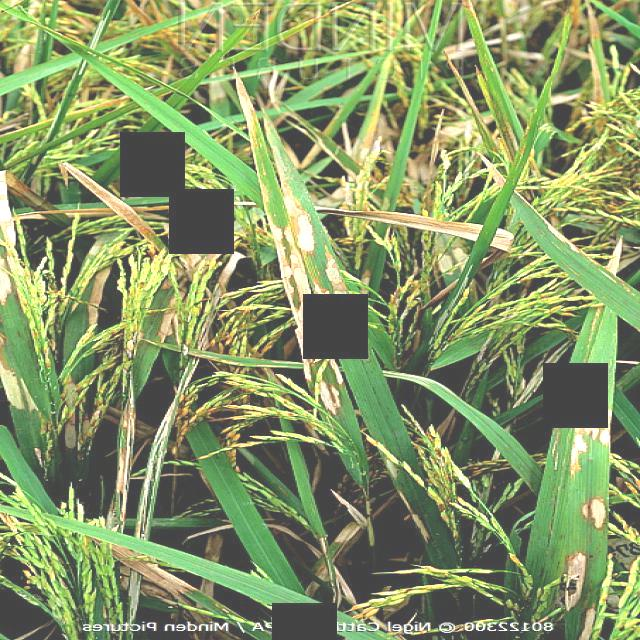Bacterial_Leaf_Blight: (230, 66, 348, 414), (511, 194, 638, 301), (564, 402, 612, 640), (57, 162, 164, 250), (0, 170, 38, 414), (308, 253, 364, 351), (306, 523, 360, 596), (69, 242, 113, 326), (394, 491, 438, 545), (115, 402, 135, 498), (284, 199, 320, 252), (156, 292, 184, 344), (64, 407, 92, 452), (438, 246, 469, 274)
